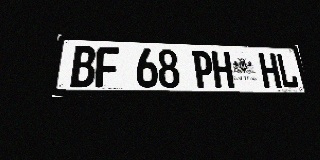6: (136, 48, 158, 88)
8: (157, 49, 180, 88)
B: (70, 46, 96, 88)
F: (95, 47, 119, 88)
H: (211, 51, 234, 88), (258, 53, 282, 88)
L: (275, 53, 299, 88)
P: (192, 50, 215, 88)
